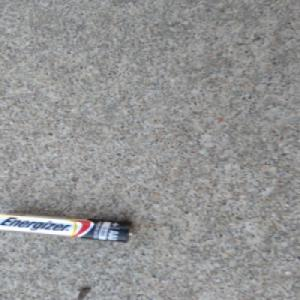Battery: (0, 212, 135, 243)
